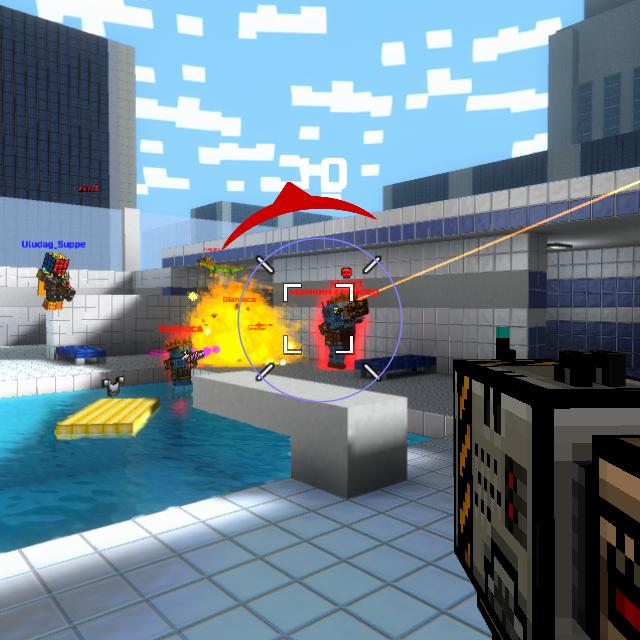Enemy: (318, 304, 354, 369), (164, 339, 197, 403), (331, 295, 365, 350)
